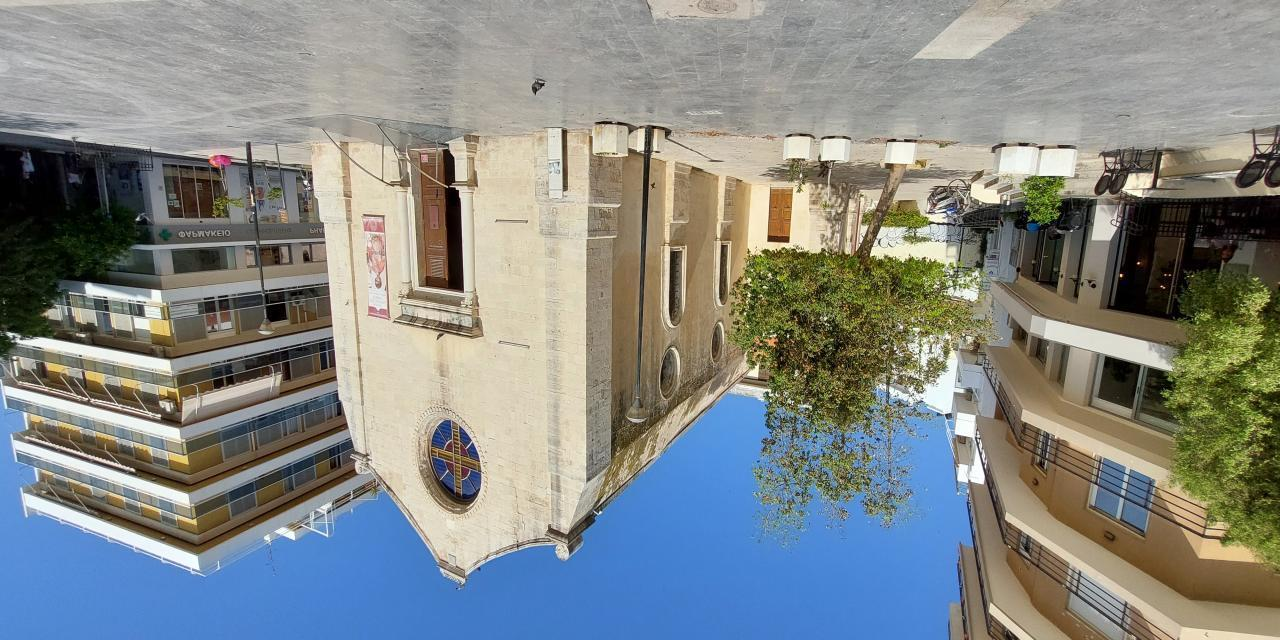Agia Aikaterini: (314, 129, 755, 594)
